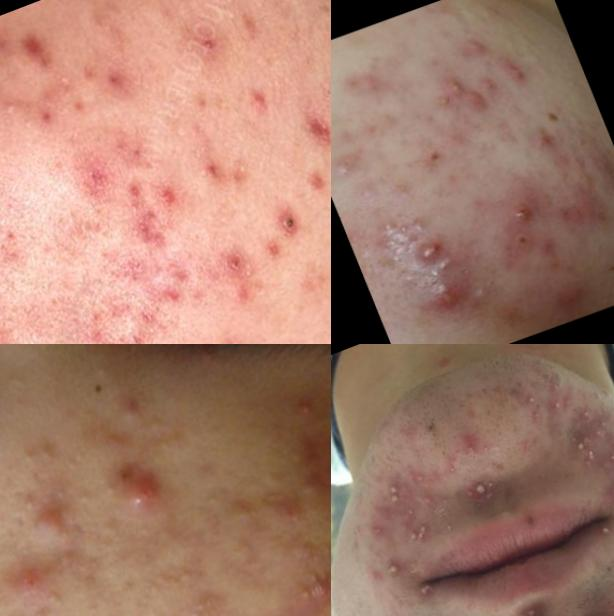cystic: (412, 272, 469, 320)
papular: (50, 137, 220, 333), (178, 12, 241, 78), (1, 554, 58, 616), (25, 498, 80, 557), (259, 480, 316, 536), (490, 186, 545, 238), (213, 240, 260, 295), (452, 85, 500, 125), (299, 104, 332, 162), (274, 201, 313, 246), (489, 50, 530, 90), (429, 76, 471, 113), (354, 555, 389, 591), (407, 457, 437, 488), (459, 34, 489, 64), (457, 434, 486, 463), (597, 472, 614, 504)
purulent: (99, 451, 183, 533), (397, 513, 443, 551), (574, 506, 614, 549), (379, 479, 414, 515), (416, 230, 448, 267), (571, 435, 604, 470), (378, 552, 409, 589), (466, 474, 498, 506), (587, 411, 614, 444), (412, 577, 441, 604), (517, 595, 552, 616), (481, 468, 505, 498), (542, 393, 568, 416), (528, 404, 552, 427), (523, 389, 542, 409), (605, 450, 614, 468)
sebo-crystan-conglo: (289, 563, 332, 615), (260, 602, 330, 616)
whitehead: (264, 365, 328, 425), (11, 431, 71, 480), (40, 53, 88, 111), (163, 552, 211, 605), (457, 264, 499, 307), (177, 587, 237, 616), (75, 356, 115, 398), (130, 403, 173, 440), (189, 489, 229, 526), (403, 204, 439, 240), (89, 510, 120, 548), (69, 482, 100, 517), (294, 469, 326, 502), (381, 175, 413, 207), (226, 503, 259, 532), (1, 89, 25, 127), (227, 154, 254, 183), (2, 607, 40, 616), (131, 204, 141, 214)
